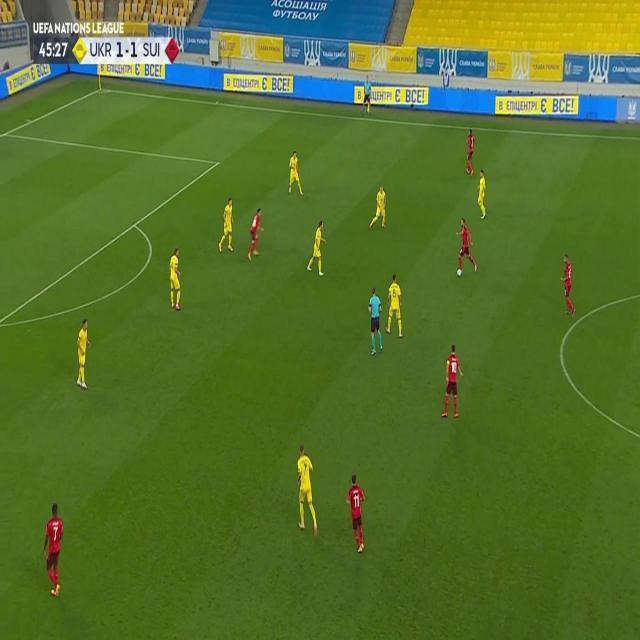ball: (457, 268, 463, 278)
player: (41, 500, 65, 600), (295, 442, 319, 538), (345, 472, 367, 555), (442, 343, 464, 420), (455, 217, 478, 277), (74, 317, 92, 389), (306, 220, 328, 277), (385, 274, 404, 339), (559, 253, 577, 318), (217, 197, 236, 254), (167, 246, 183, 312), (246, 206, 264, 262), (368, 185, 388, 231), (286, 151, 304, 198), (475, 169, 488, 219), (464, 127, 477, 177)
referee: (367, 285, 384, 356), (361, 75, 372, 119)
